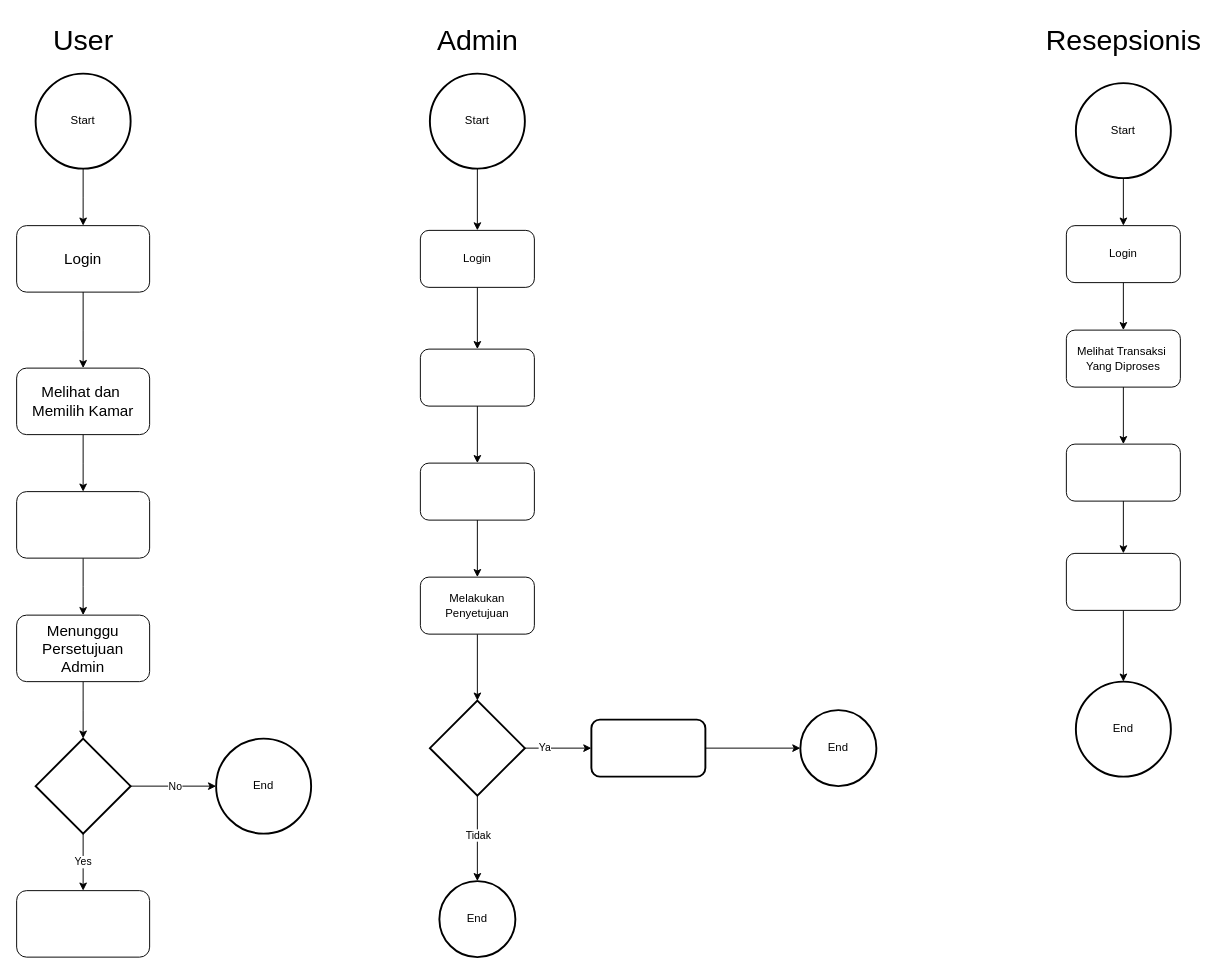
Some shapes in this 1230 by 974 pixel diagram are drawn without their labels. Each missing label, with the centre of its shape:
Melakukan Pembayaran: pixel 83 923
Melakukan Pemesanan: pixel 83 524
Melihat Laporan/Statistik: pixel 648 747
Mencatat Pembayaran: pixel 1122 472
Mencetak Pembayaran: pixel 1122 581
Mengecek Pemesanan: pixel 476 491
Mengelola Data Kamar & Pengguna: pixel 476 377
